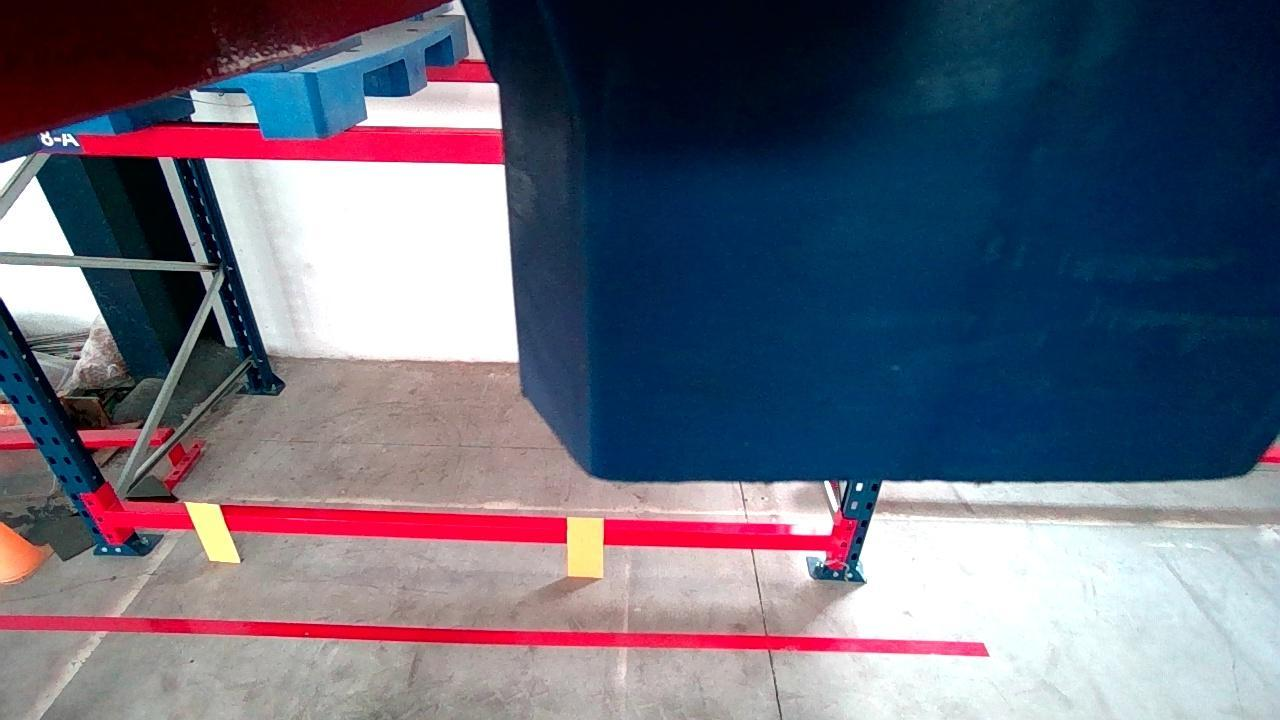h_rack: (105, 512, 832, 550), (36, 133, 504, 164)
orange_strip: (184, 504, 238, 563), (566, 518, 602, 578)
red_line: (0, 616, 984, 654)
